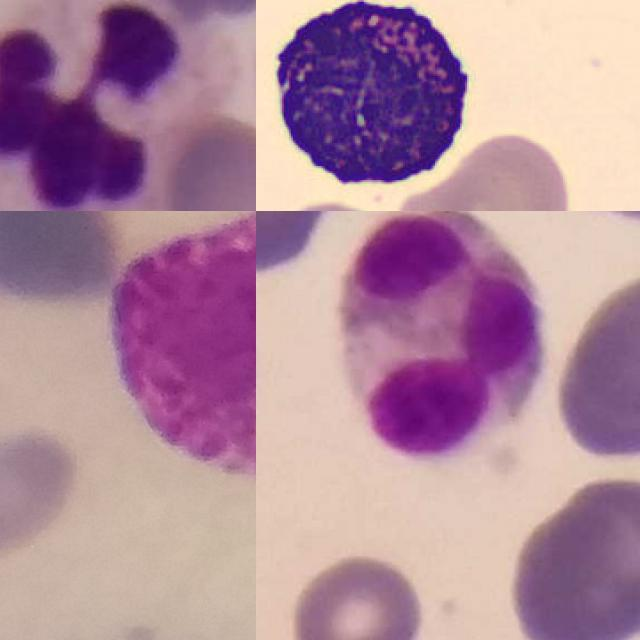Basophil: (256, 0, 483, 199), (107, 211, 256, 482)
Eosinophil: (339, 211, 546, 462)
Neutrophil: (0, 0, 210, 211)
RBC: (395, 125, 577, 211)
